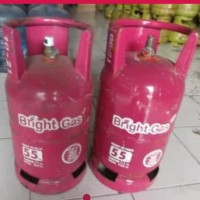bright_gas: (89, 19, 200, 194), (4, 18, 95, 197)
